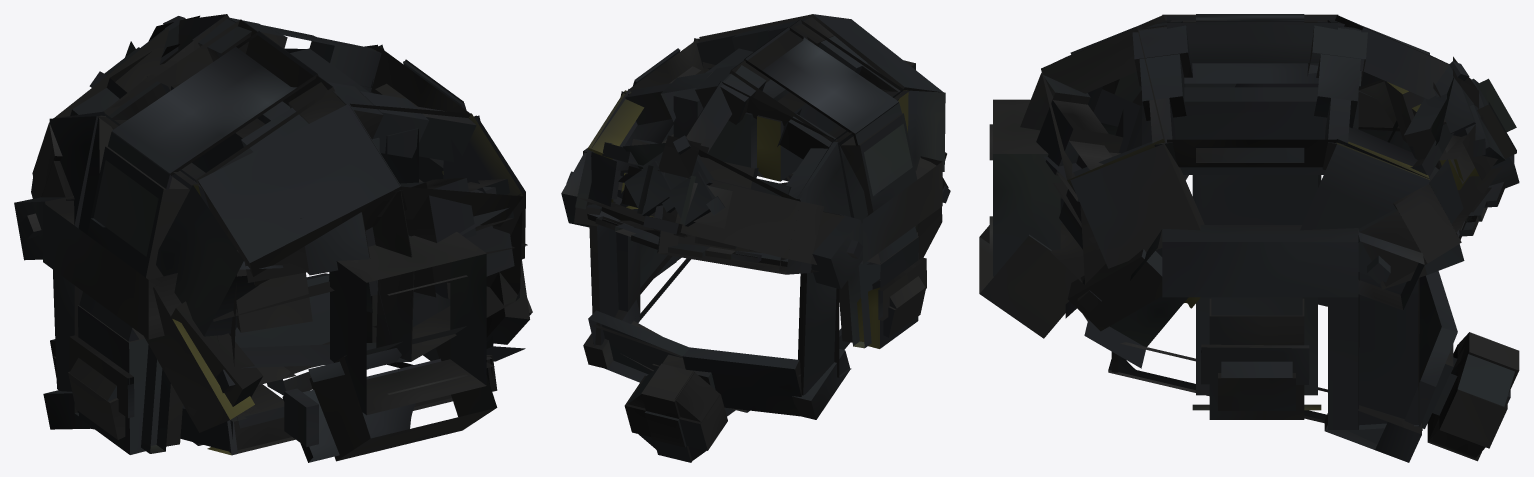
Rendered from gasmask_h.obj.
The picture shows the model from 3 angles, left to right: view 1: azimuth 30°, elevation 25°; view 2: azimuth 150°, elevation 25°; view 3: azimuth 270°, elevation 25°; orthographic projection. The views are drawn at different scales.
Parts seen in each view (by area): view 1: gasmask_h; view 2: gasmask_h; view 3: gasmask_h.
Boxes of the visible parts, bbox=[...] form: gasmask_h: bbox=[14, 14, 532, 462]; gasmask_h: bbox=[561, 14, 950, 462]; gasmask_h: bbox=[979, 14, 1519, 462].
Bounding box in the file's own units: 0.7742 × 0.8769 × 0.9977.
